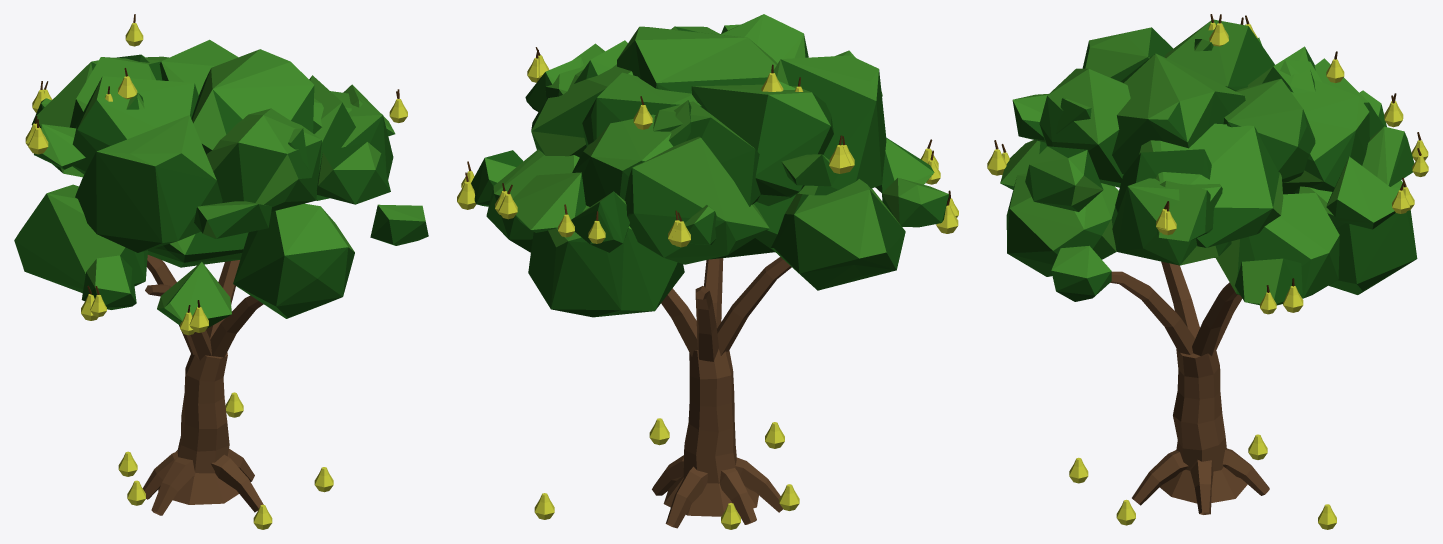
The model's file is tree_pear.glb.
3 renders of one model, left to right at view 1: azimuth 30°, elevation 25°; view 2: azimuth 150°, elevation 25°; view 3: azimuth 270°, elevation 25°, orthographic. The views are drawn at different scales.
Visible parts, largest first — view 1: TreePear; view 2: TreePear; view 3: TreePear.
Boxes of the visible parts, x1,y1,x2,y2 form: TreePear: [14, 14, 428, 529]; TreePear: [457, 14, 958, 529]; TreePear: [987, 14, 1428, 529].
Bounding box in the file's own units: 4.01 × 4.43 × 3.99.
